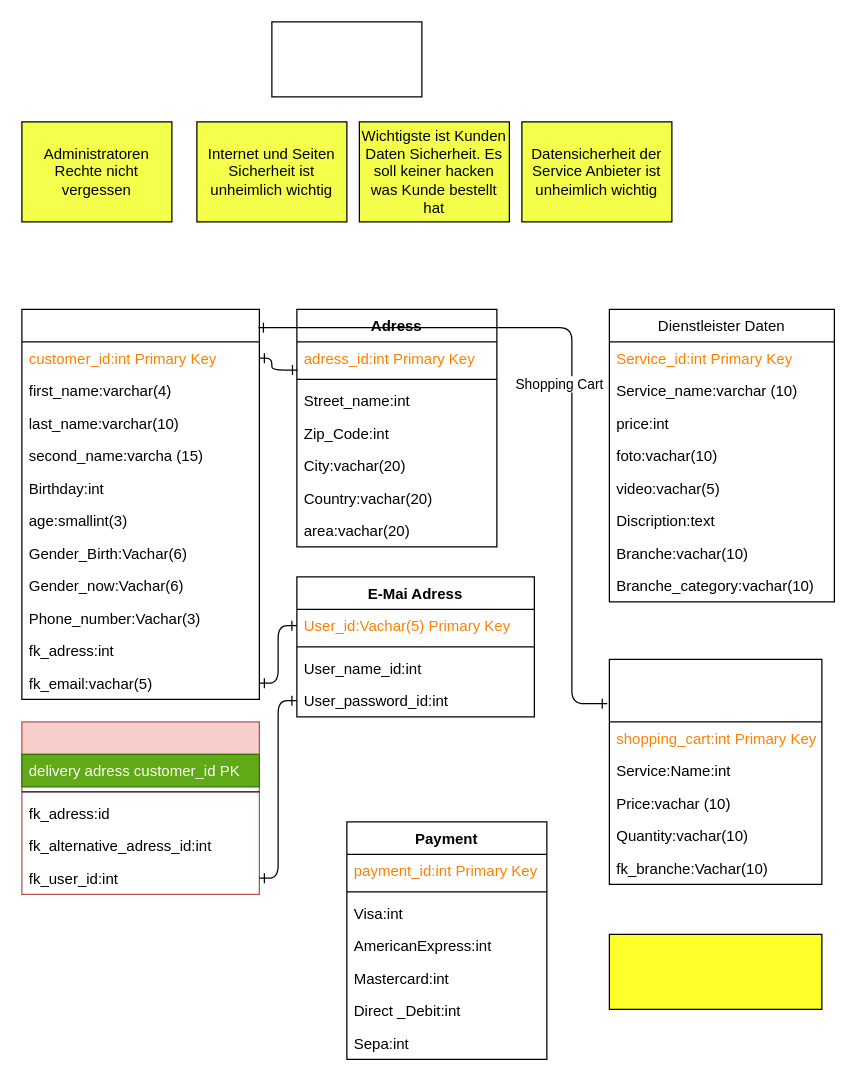
This 856x1085 diagram has some shape labels left out. The shapes that lost their labels are listed below. From the top down, each one's box as (x1, y1, x2, y2) in pixels, then its label:
(271, 21, 422, 97): Database
(21, 308, 259, 699): Kunden Daten
(608, 658, 822, 884): Shopping Cart ev f d kombinieren von Dienstleistungen
(21, 721, 259, 894): Delivery Adress = Local Based
(608, 933, 822, 1009): Notiz: Service oder Shopping Cart wird man für Datenbank brauchen
